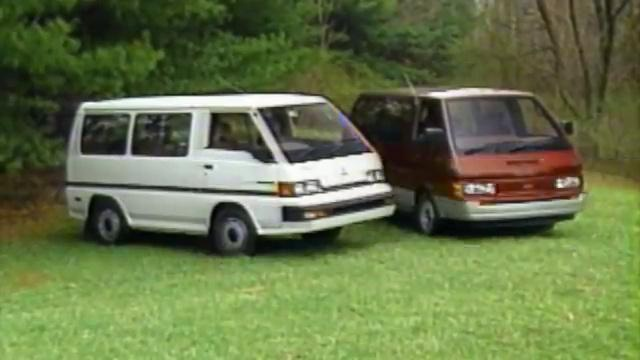van: (61, 92, 388, 260), (354, 83, 585, 230)
